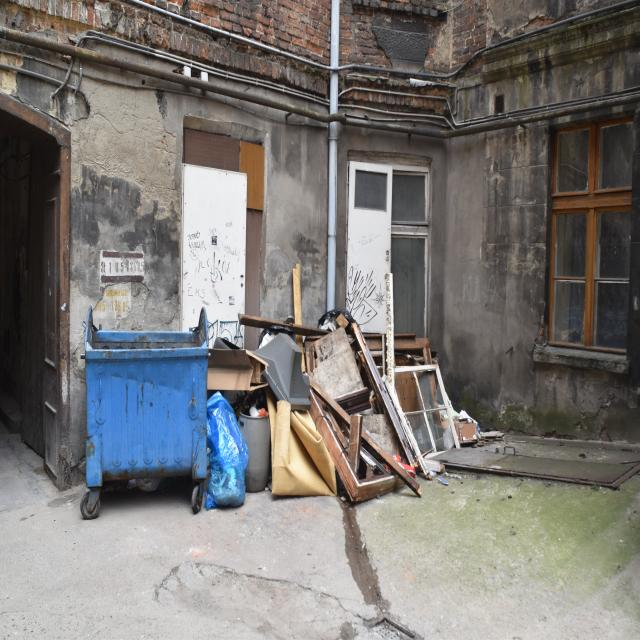entulho: (381, 352, 637, 488), (240, 280, 385, 500), (194, 302, 248, 389), (353, 332, 432, 363)
lixo domiciliar: (204, 391, 246, 510), (239, 397, 271, 495)
